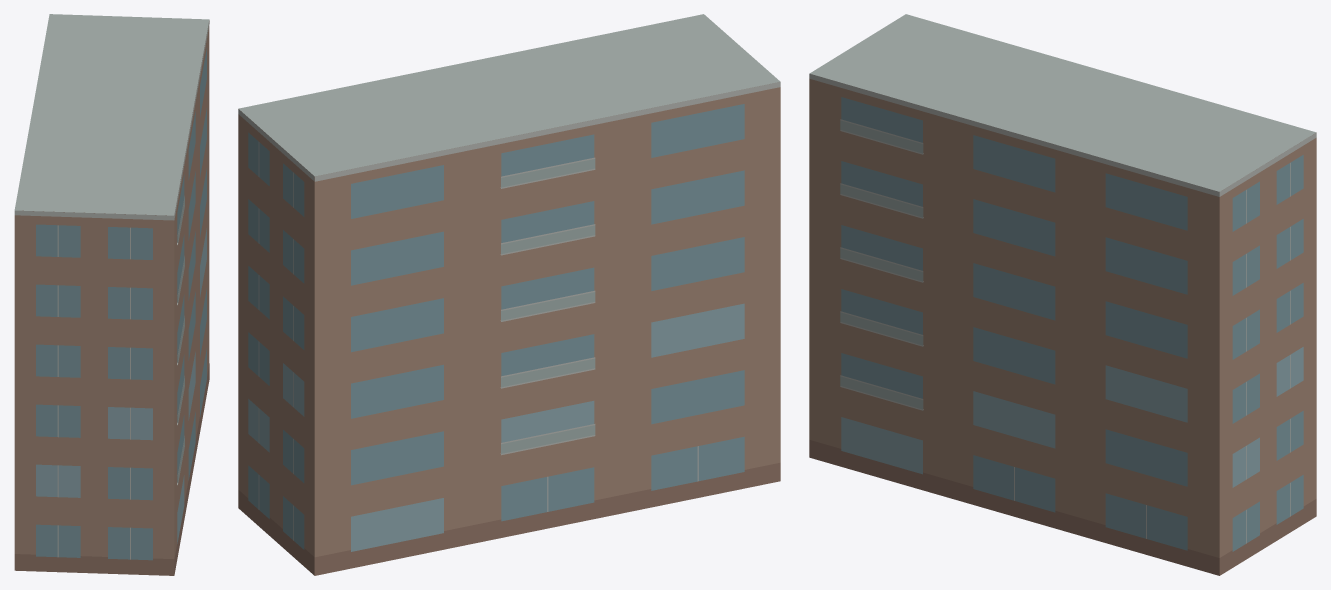
File: survey-upis-32541071.glb
The picture shows the model from 3 angles, left to right: view 1: azimuth 30°, elevation 25°; view 2: azimuth 150°, elevation 25°; view 3: azimuth 270°, elevation 25°; orthographic projection. The views are drawn at different scales.
Visible parts, largest first — view 1: survey-upis-32541071.tmp; view 2: survey-upis-32541071.tmp; view 3: survey-upis-32541071.tmp.
Boxes of the visible parts, x1,y1,x2,y2 form: survey-upis-32541071.tmp: (14, 14, 209, 575); survey-upis-32541071.tmp: (238, 14, 780, 575); survey-upis-32541071.tmp: (809, 14, 1316, 575).
Size of the model in its own units: 18.19 by 18.3 by 21.91.
